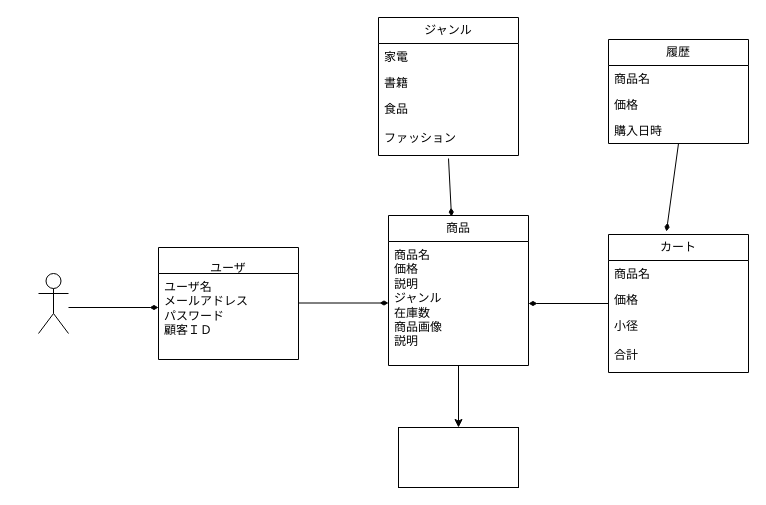
Some shapes in this 766 by 505 pixel diagram are drawn without their labels. The shapes that lost their labels are listed below. From the top down, each one's centre as x and y in pixels, then its label:
the point at 53,303: 顧客ユーザー
the point at 458,457: 商品一覧
